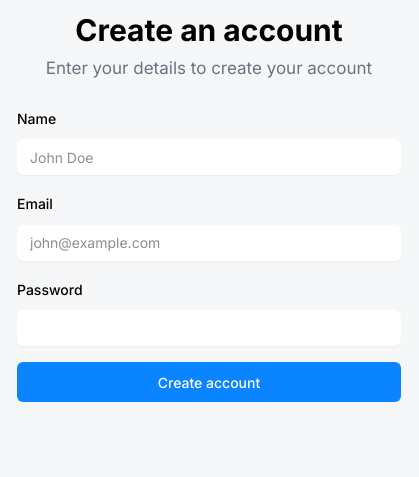
Test: RegisterForm › validates required fields
Click the button "Create account". click: (209, 382)
box: [17,362,401,402]
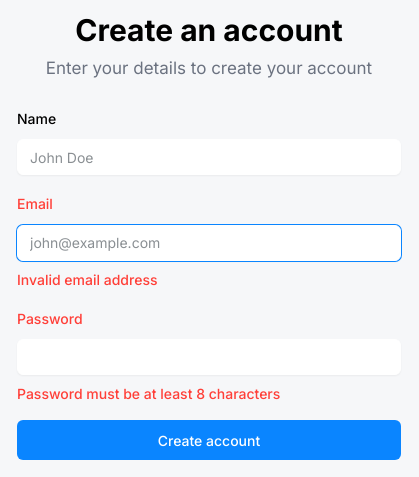
Check: the text "Invalid email address" is shown, box [17,270,158,288]
Check: the text "Password must be at least 8 characters" is shown, box [17,385,280,402]
